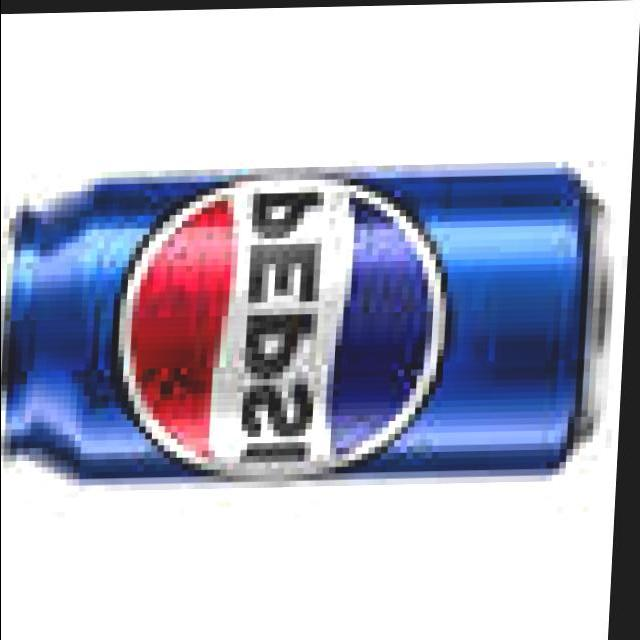litter: (0, 154, 621, 491)
